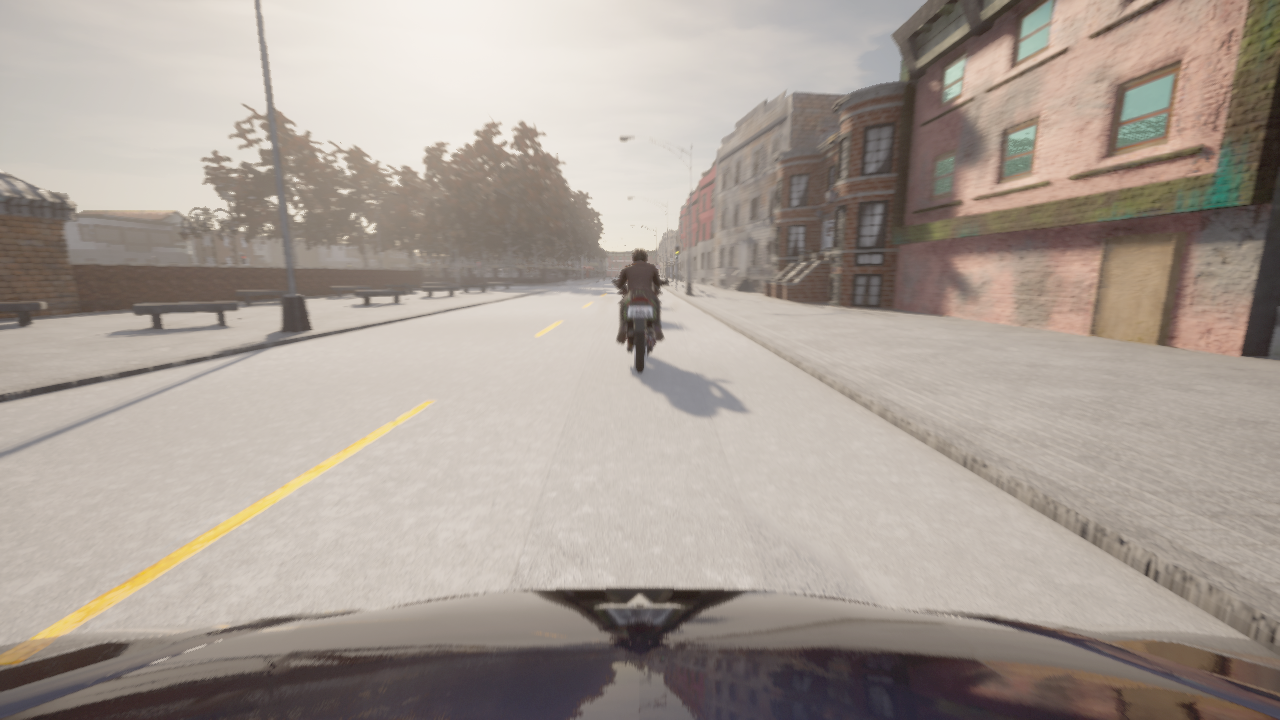cyclist: (0, 588, 1279, 719), (612, 281, 667, 373), (555, 278, 573, 286)
